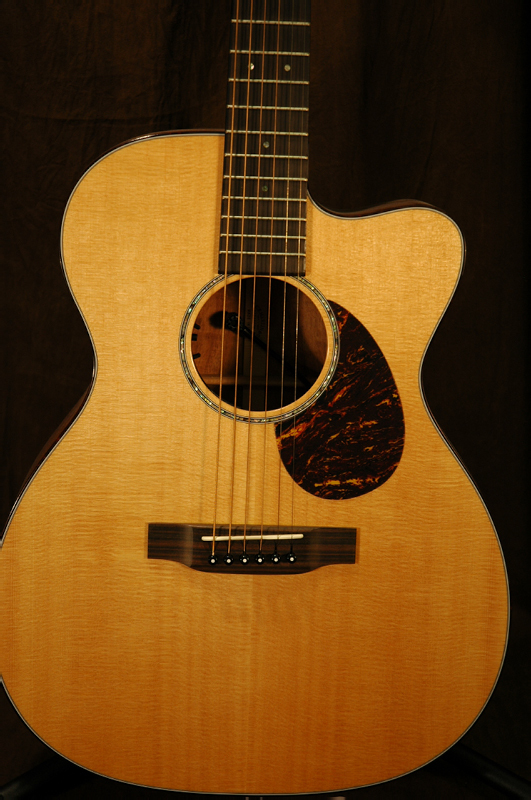guitar: (1, 1, 511, 794)
